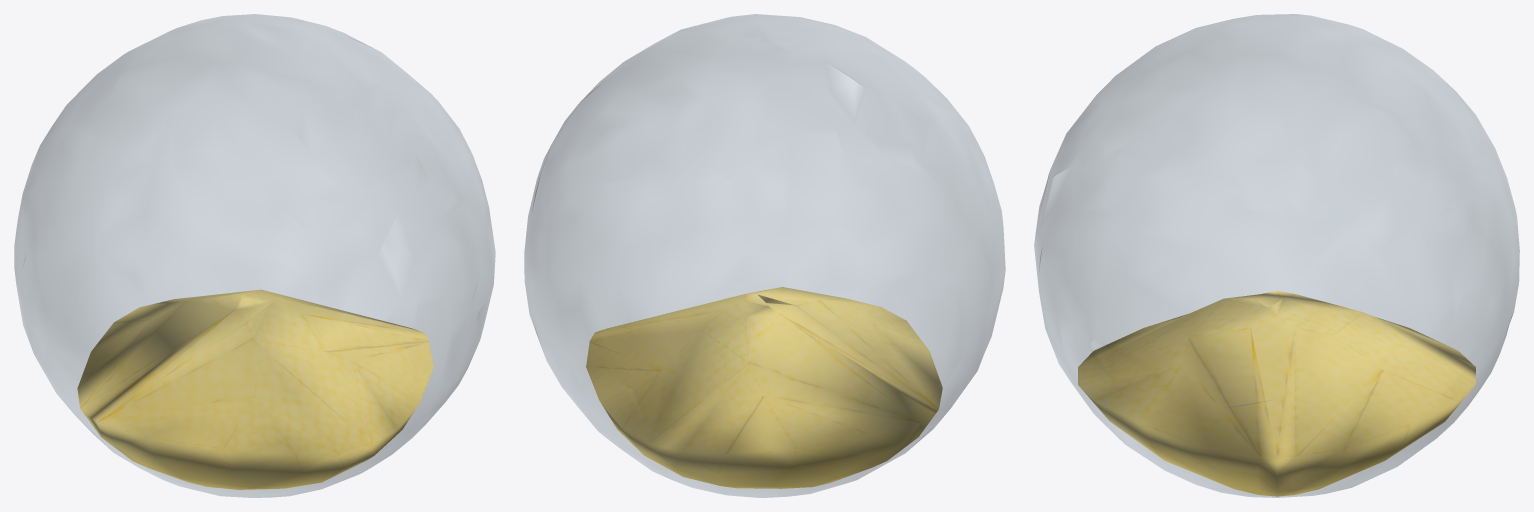
The model's file is item-148.gltf.
3 renders of one model, left to right at view 1: azimuth 30°, elevation 25°; view 2: azimuth 150°, elevation 25°; view 3: azimuth 270°, elevation 25°, orthographic.
Parts seen in each view (by area): view 1: antimony_orb__exp; view 2: antimony_orb__exp; view 3: antimony_orb__exp.
Part boxes in pixels (box(x1,y1,x2,y2)): antimony_orb__exp: box(14, 14, 495, 497); antimony_orb__exp: box(524, 14, 1005, 497); antimony_orb__exp: box(1034, 14, 1519, 497).
Size of what is drawn, in the model's own units: 0.6258 by 0.6278 by 0.6268.
2 materials, 1 textured.
